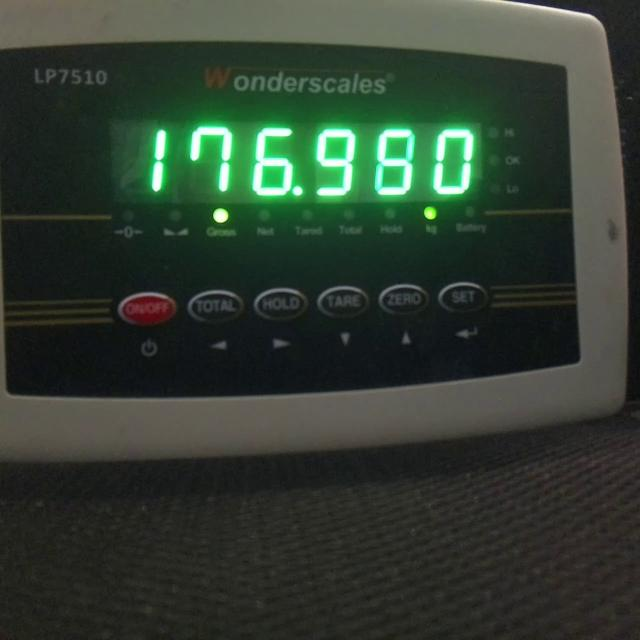.: (292, 186, 302, 196)
0: (434, 128, 474, 194)
1: (150, 128, 167, 192)
6: (250, 125, 299, 196)
7: (190, 125, 232, 192)
8: (314, 128, 356, 197), (374, 127, 414, 195)
